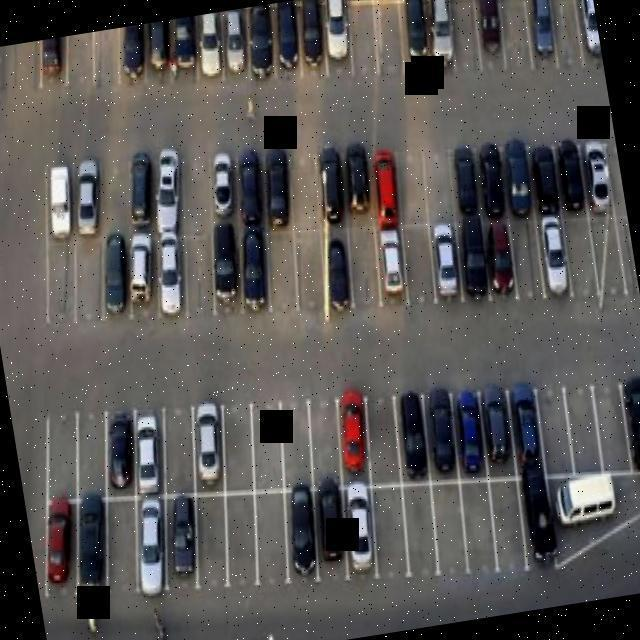car: (60, 488, 116, 598), (122, 494, 180, 598), (32, 500, 90, 600), (92, 404, 146, 502), (336, 485, 389, 583), (327, 390, 380, 488), (508, 476, 562, 572), (304, 487, 358, 582), (274, 484, 325, 584), (120, 408, 173, 504), (472, 388, 522, 487), (158, 490, 206, 592), (463, 132, 517, 222), (33, 156, 85, 247), (183, 405, 234, 495), (312, 226, 363, 316), (332, 136, 381, 229), (230, 223, 278, 317), (202, 216, 250, 310), (142, 142, 190, 236), (90, 229, 138, 323), (118, 145, 166, 239), (528, 214, 578, 304), (222, 144, 272, 234), (309, 0, 363, 83), (492, 136, 542, 224), (448, 214, 496, 304), (147, 230, 196, 318), (287, 0, 337, 85), (504, 388, 550, 480), (521, 134, 569, 222), (439, 138, 488, 224), (119, 231, 166, 320), (235, 4, 283, 91), (546, 137, 596, 220), (416, 392, 462, 482), (388, 0, 440, 79), (263, 0, 313, 82), (198, 142, 244, 231), (463, 0, 516, 76), (360, 137, 405, 226), (62, 154, 109, 239), (214, 8, 261, 92), (251, 146, 299, 228), (445, 391, 491, 476), (389, 392, 434, 478), (421, 215, 466, 301), (476, 214, 522, 298), (414, 0, 464, 76), (513, 0, 565, 72), (308, 143, 351, 230), (186, 12, 235, 86), (574, 136, 618, 216), (160, 15, 209, 86), (110, 24, 158, 94), (610, 378, 640, 488), (368, 222, 408, 302), (31, 36, 78, 103), (138, 20, 182, 89), (564, 0, 604, 74), (0, 45, 8, 65)
free: (214, 487, 270, 591), (478, 475, 532, 578), (393, 477, 448, 578), (453, 477, 504, 579), (424, 480, 476, 580), (183, 491, 236, 588), (94, 491, 144, 593), (358, 394, 410, 492), (59, 225, 112, 320), (30, 409, 84, 500), (364, 484, 416, 578), (62, 414, 116, 504), (529, 380, 578, 479), (210, 404, 264, 493), (172, 144, 224, 236), (556, 383, 606, 478), (248, 494, 298, 588), (384, 137, 434, 230), (582, 212, 632, 304), (270, 403, 321, 493), (587, 385, 635, 479), (339, 218, 387, 312), (244, 404, 294, 494), (298, 400, 348, 490), (258, 226, 308, 316), (413, 140, 463, 228), (34, 238, 84, 326), (437, 0, 491, 78), (286, 222, 333, 310), (282, 149, 331, 232), (88, 150, 136, 234), (174, 232, 223, 314), (157, 408, 202, 497), (558, 218, 602, 308), (504, 210, 549, 296), (492, 0, 543, 75), (394, 220, 440, 302), (339, 0, 386, 74), (540, 0, 589, 67), (367, 0, 411, 74), (58, 32, 102, 96), (608, 214, 640, 301), (88, 28, 128, 95), (600, 140, 628, 220)
